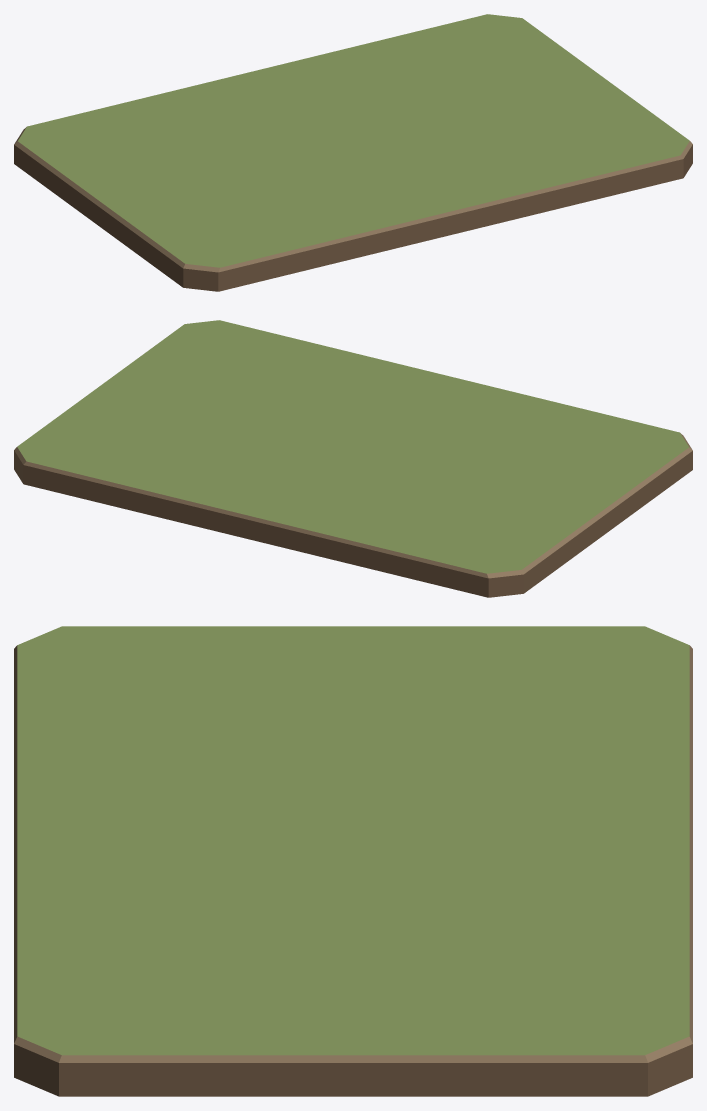
The model's file is terrain_tile.fbx.
3 views of the same model, one above another, from view 1: azimuth 30°, elevation 25°; view 2: azimuth 150°, elevation 25°; view 3: azimuth 270°, elevation 25° (orthographic). The views are drawn at different scales.
Parts seen in each view (by area): view 1: terrain_tile; view 2: terrain_tile; view 3: terrain_tile.
Part boxes in pixels (x1=…): terrain_tile: x1=14, y1=14, x2=692, y2=291; terrain_tile: x1=14, y1=320, x2=692, y2=597; terrain_tile: x1=14, y1=626, x2=692, y2=1096.
Size of the model in its own units: 1600 by 68 by 1060.
